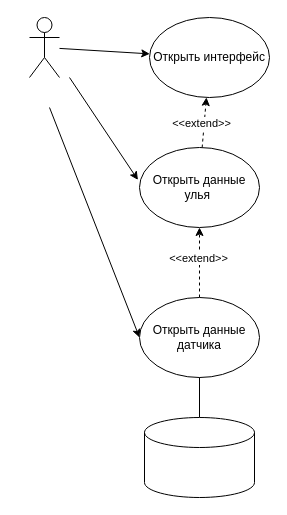
Image size: 287x515. Some labels were removed from this diagram. Each missing label, with the centre of its shape:
База данных датчиков: the point at 199,457
Пчеловод: the point at 44,47
